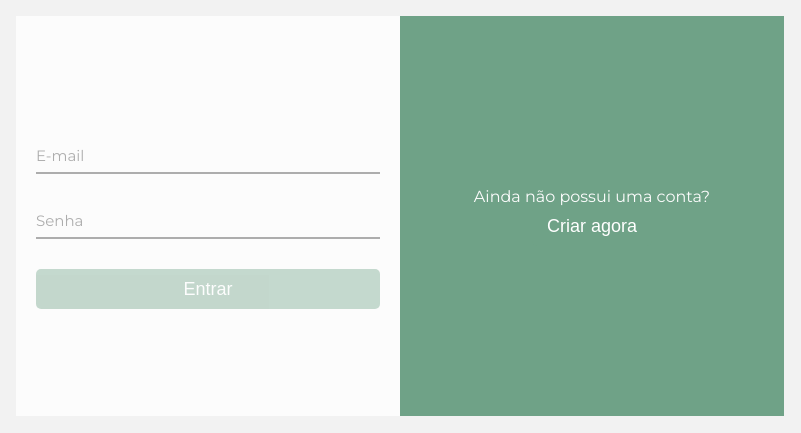
it: Component should toggle between login and signup
Expected: the button "Entrar" is shown, [36,268,380,308]
Click the button "Criar agora" at (592,226), box [532,206,652,246]
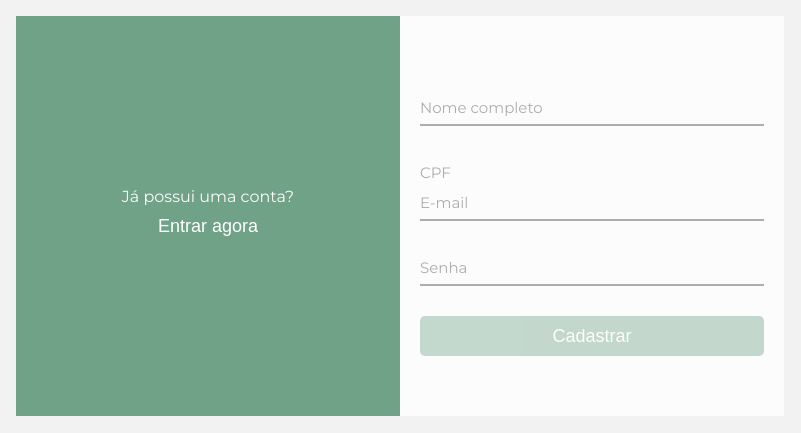
Expected: the button "Cadastrar" is shown, [420,316,764,356]
Click the button "Entrar agora" at (208,226), box [143,206,273,246]
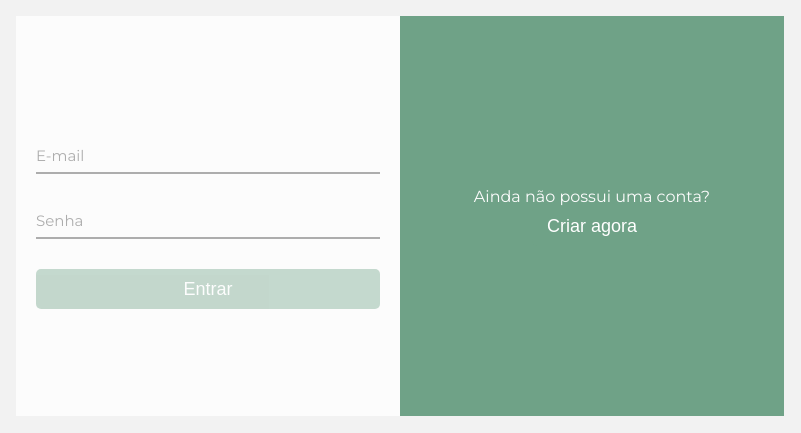
Expected: the button "Entrar" is shown, [36,268,380,308]
